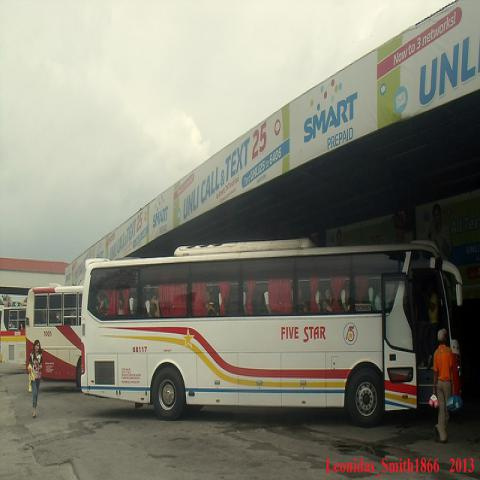bus: (82, 240, 465, 430), (26, 285, 84, 387), (0, 304, 27, 364)
